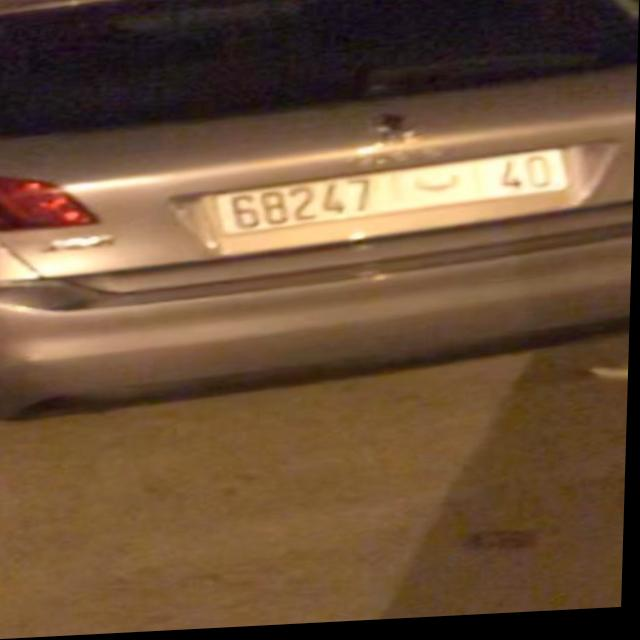License-Plate: (220, 155, 568, 239)
